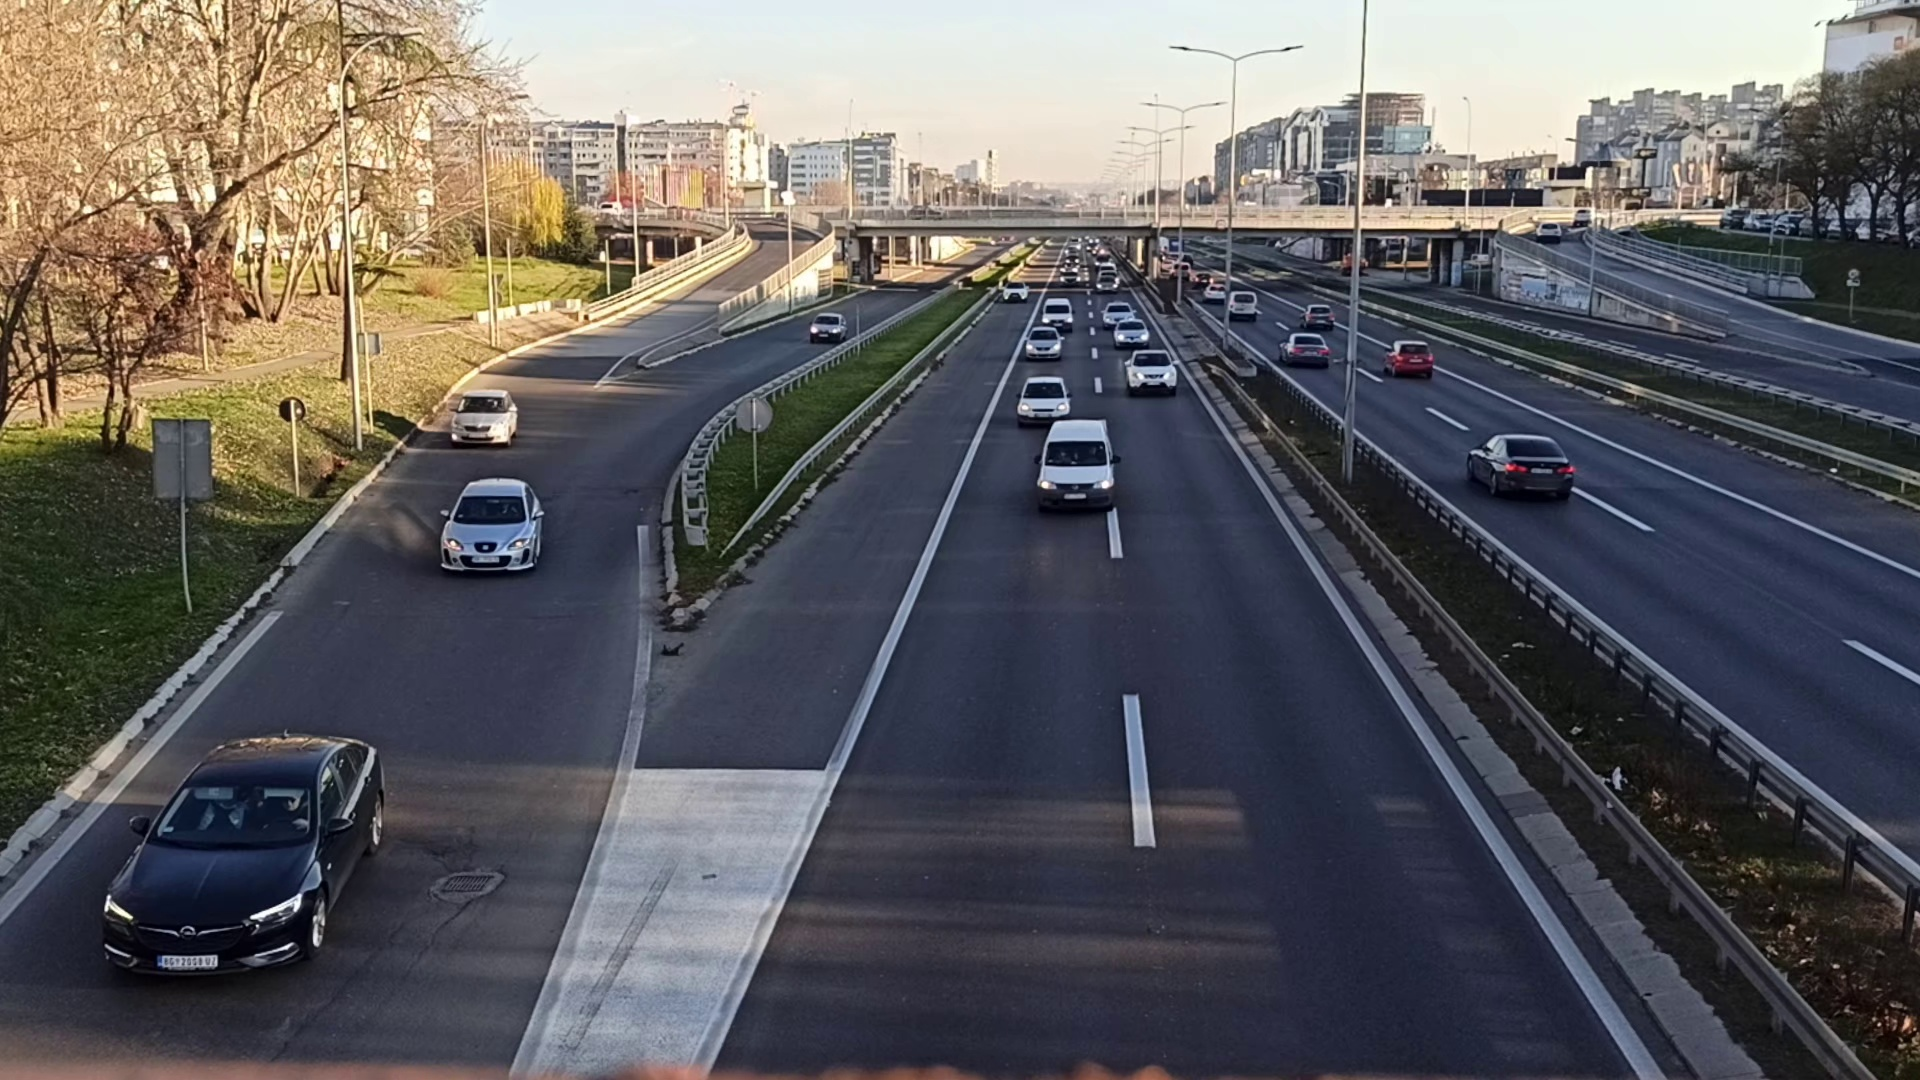car: (96, 735, 396, 990), (438, 473, 545, 579), (1469, 430, 1575, 505), (451, 386, 520, 452), (1125, 349, 1176, 396), (1018, 377, 1069, 422), (1385, 338, 1433, 378), (1280, 328, 1328, 364), (1025, 324, 1062, 359), (810, 310, 845, 343), (1040, 294, 1071, 331), (1113, 318, 1149, 345), (1302, 301, 1332, 326), (1104, 301, 1130, 328)
van: (1035, 419, 1116, 509)
